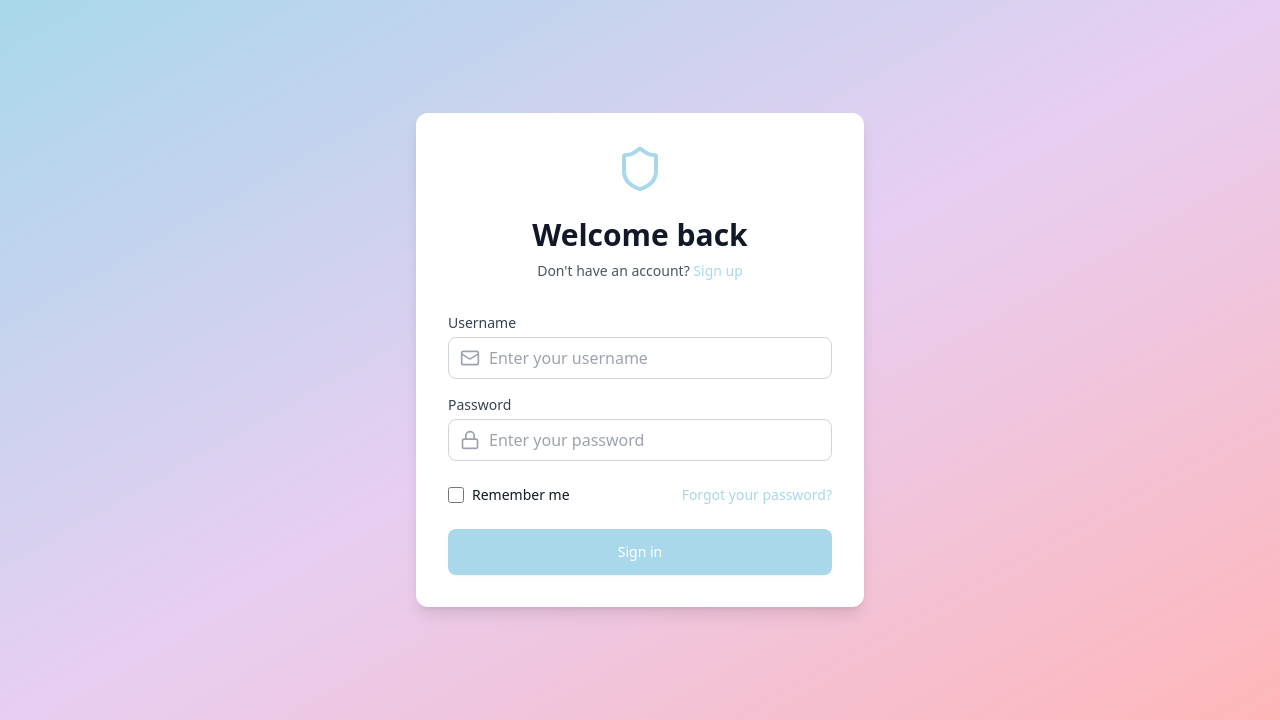
Test: Login Component › displays error message on login failure
Type "testuser" into the field labelled "Username" at [640, 358], box [448,337,832,379]
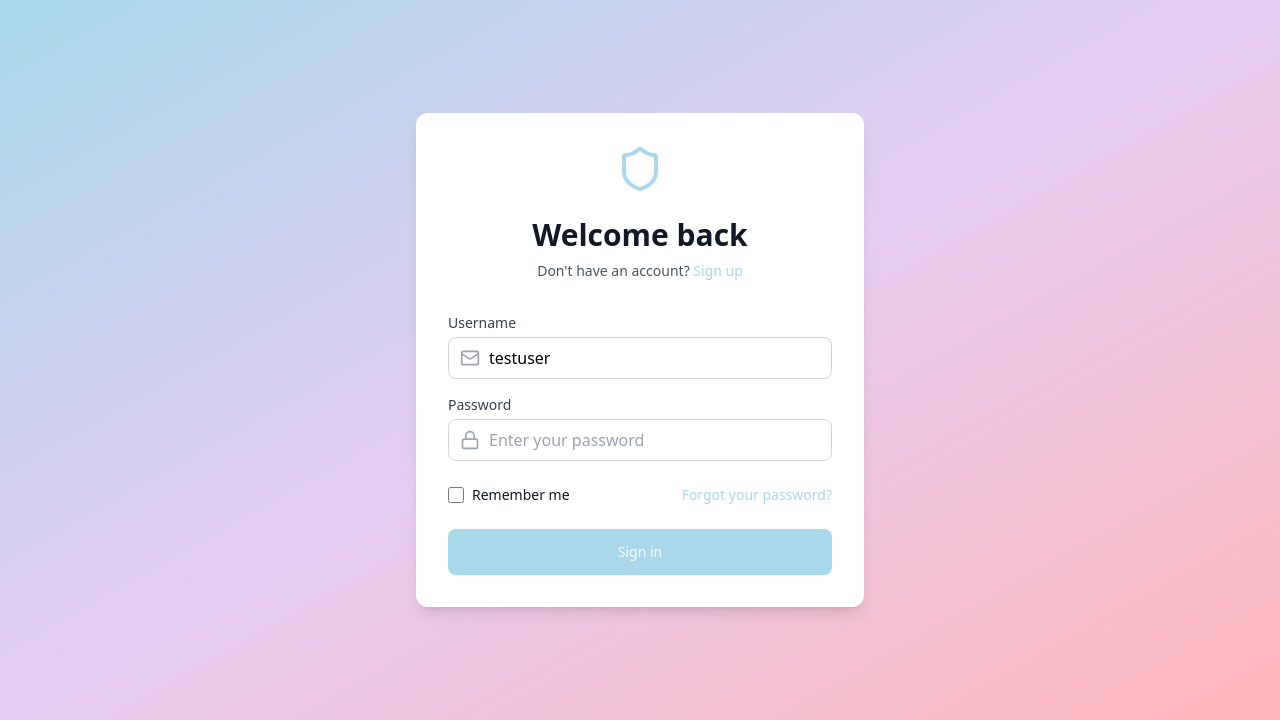
Type "wrongpass" into the password field labelled "Password" at [640, 440], box [448,419,832,461]
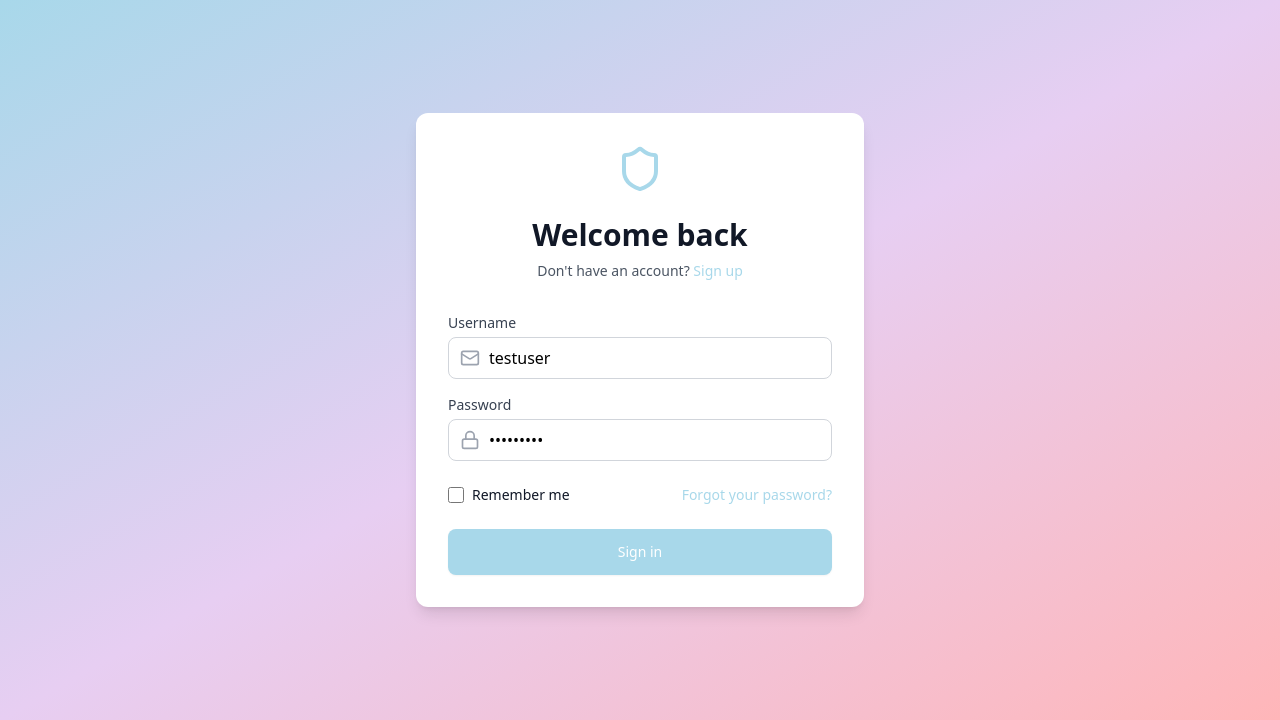
Click the button "Sign in" at [640, 552], box [448,529,832,575]
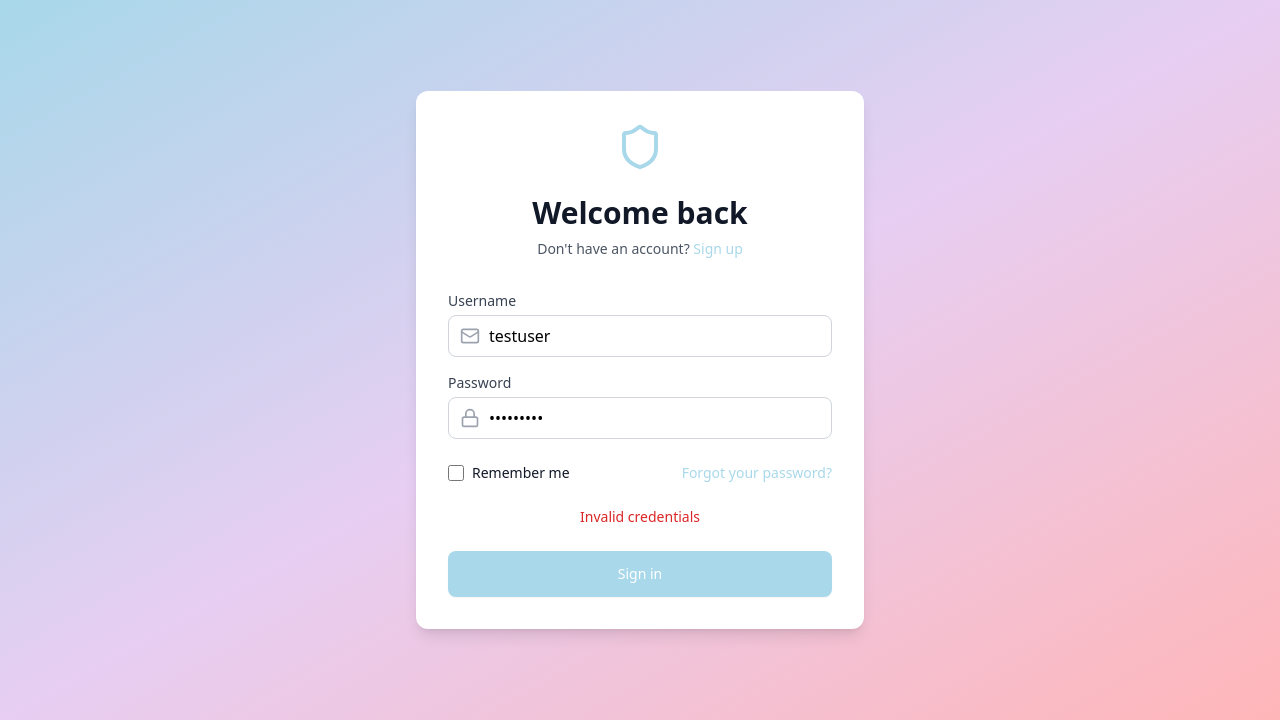
Check: the text "Invalid credentials" is shown, box [580,507,700,526]
